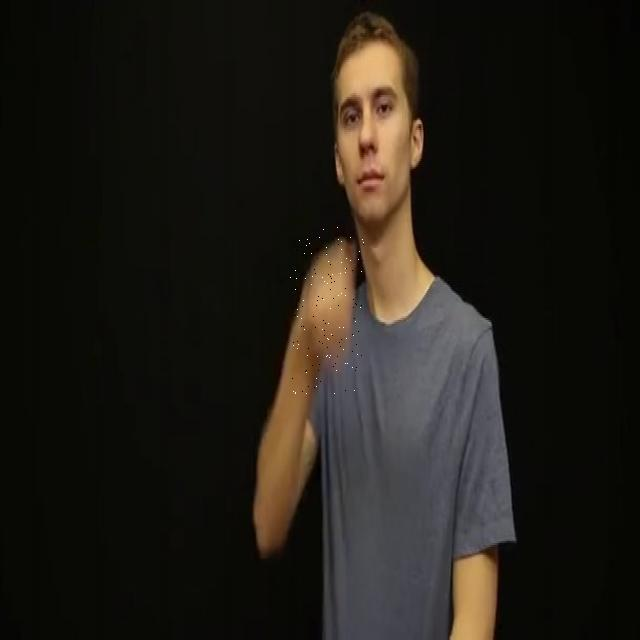icecream: (290, 227, 364, 394)
